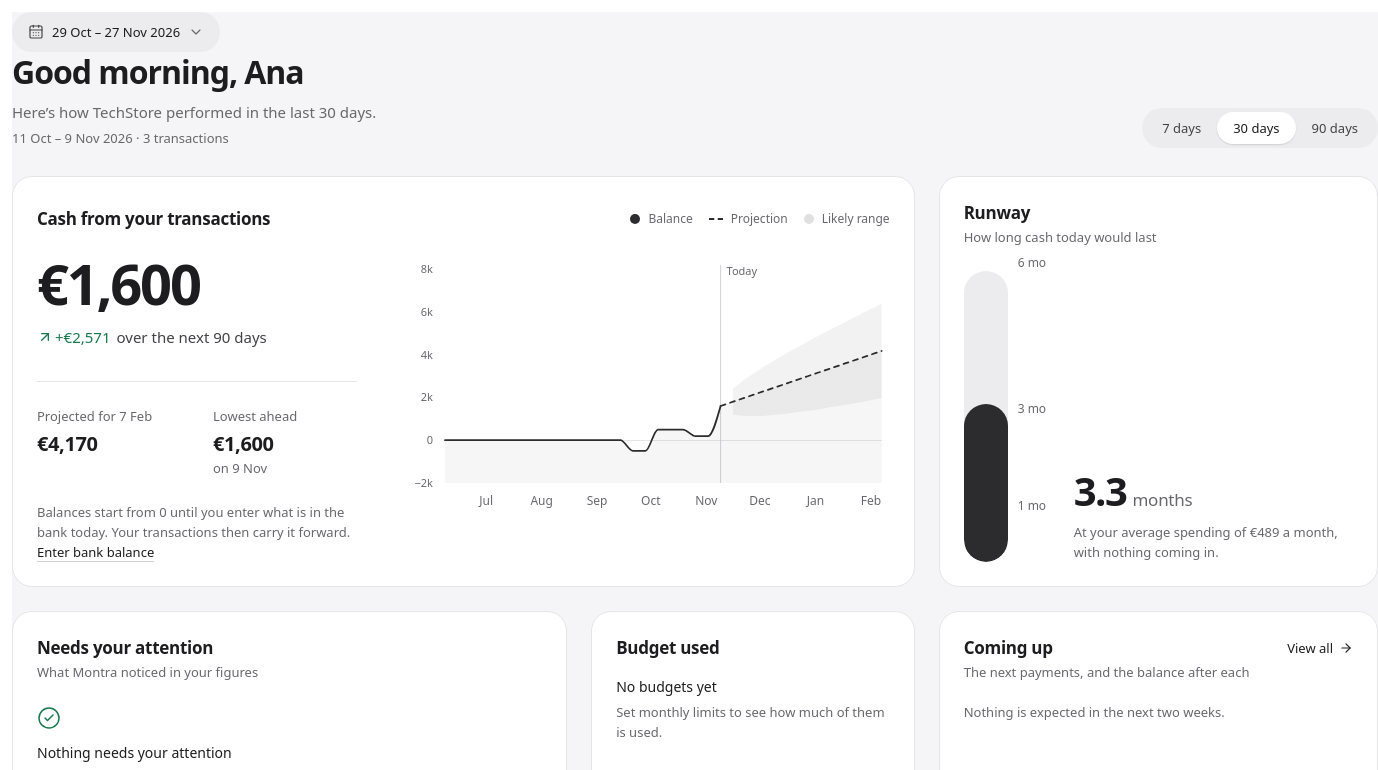
Test case: dashboard figures › reloads for another reporting period
Click the button with aria-label "Reporting period: Last 30 days" at (116, 32), box [12,12,220,52]
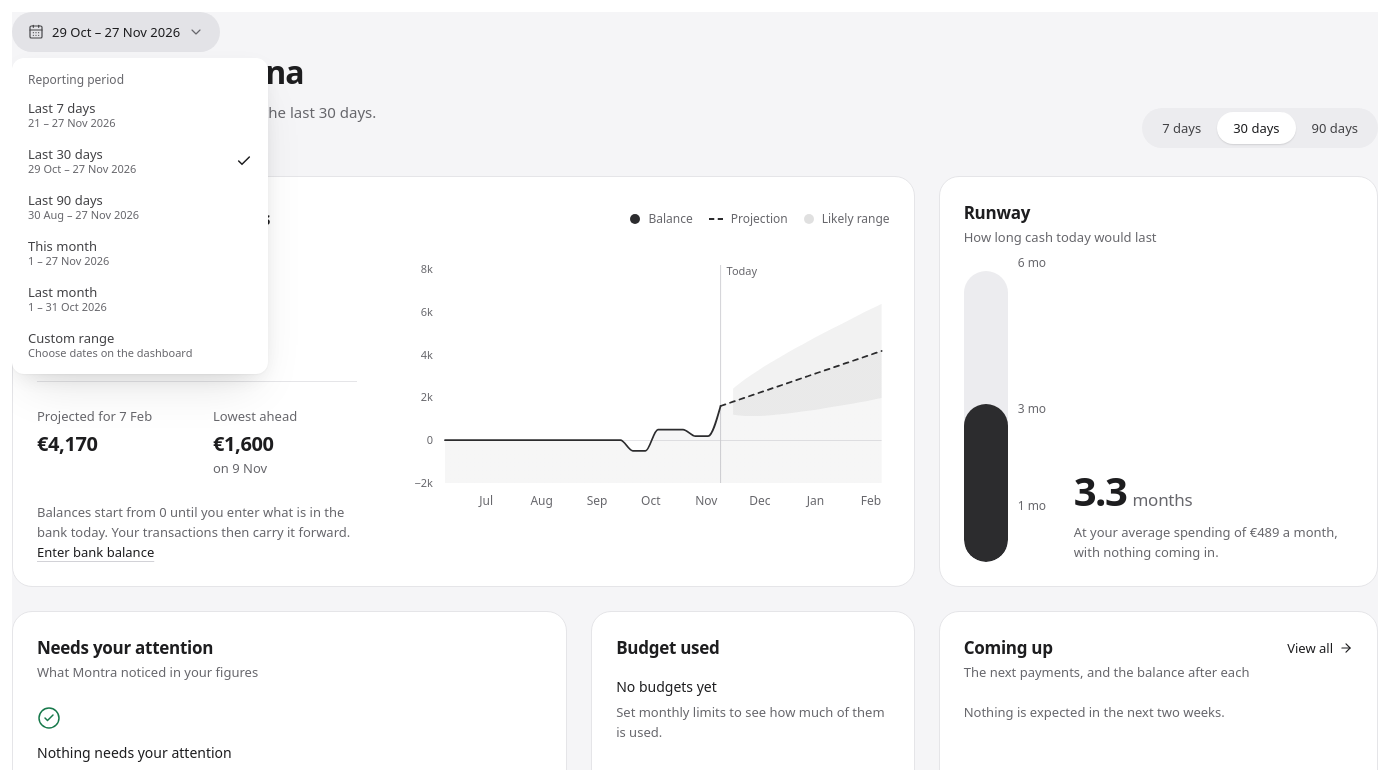
Click the menu item "Last month 1 – 31 Oct 2026" at (67, 299), box [28,283,107,314]
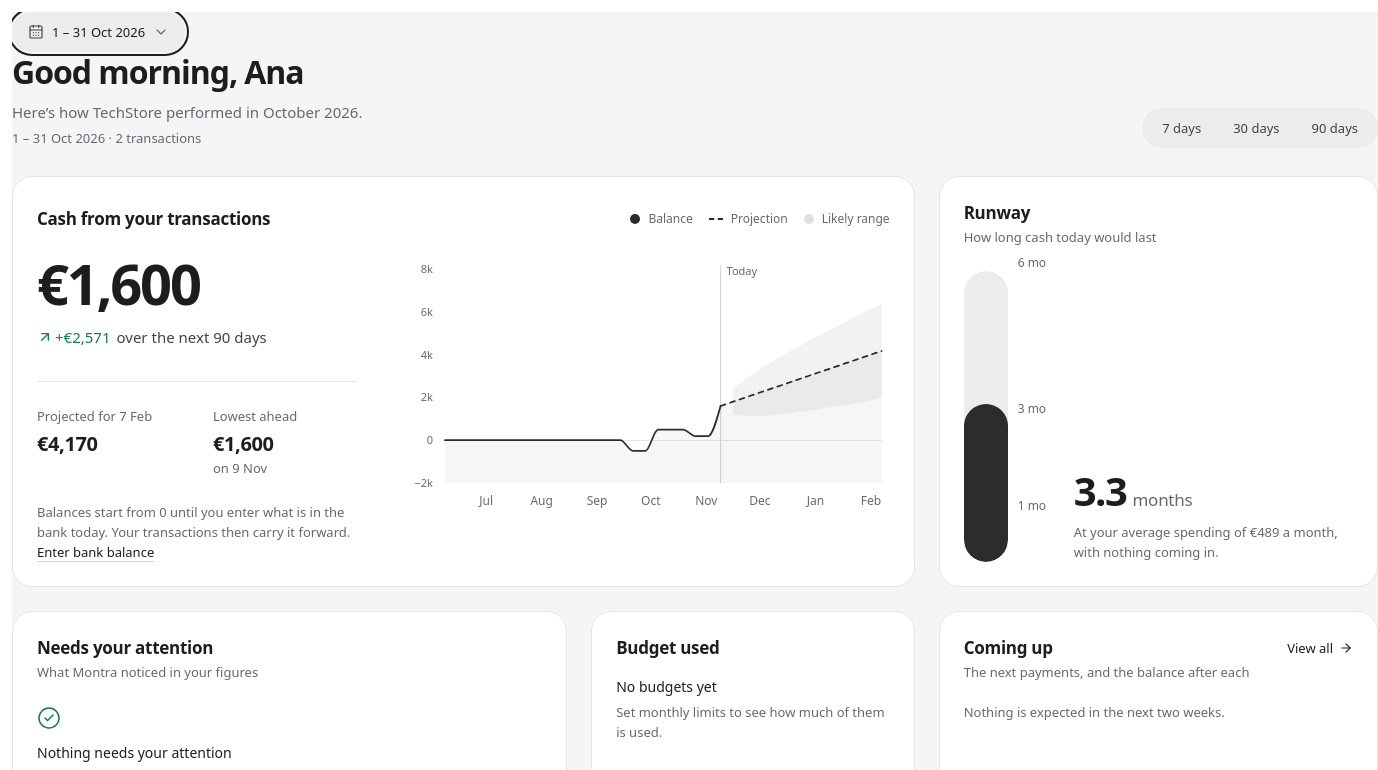
Result: the text "Here’s how TechStore performed in October 2026." is shown at [12,100,362,124]
Result: the text "1 – 31 Oct 2026 · 2 transactions" is shown at [12,129,201,147]
